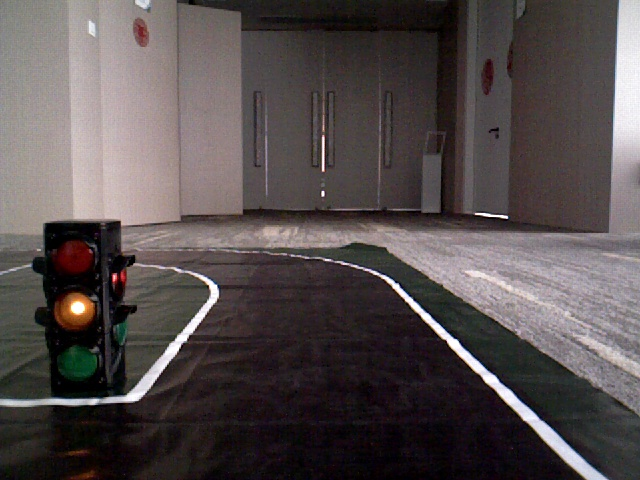yellow: (44, 224, 107, 381)
